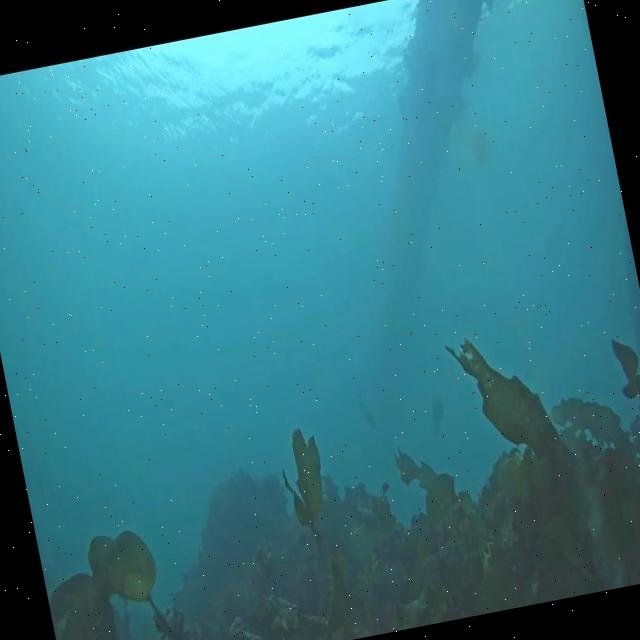fish: (424, 392, 451, 432), (356, 388, 378, 437)
